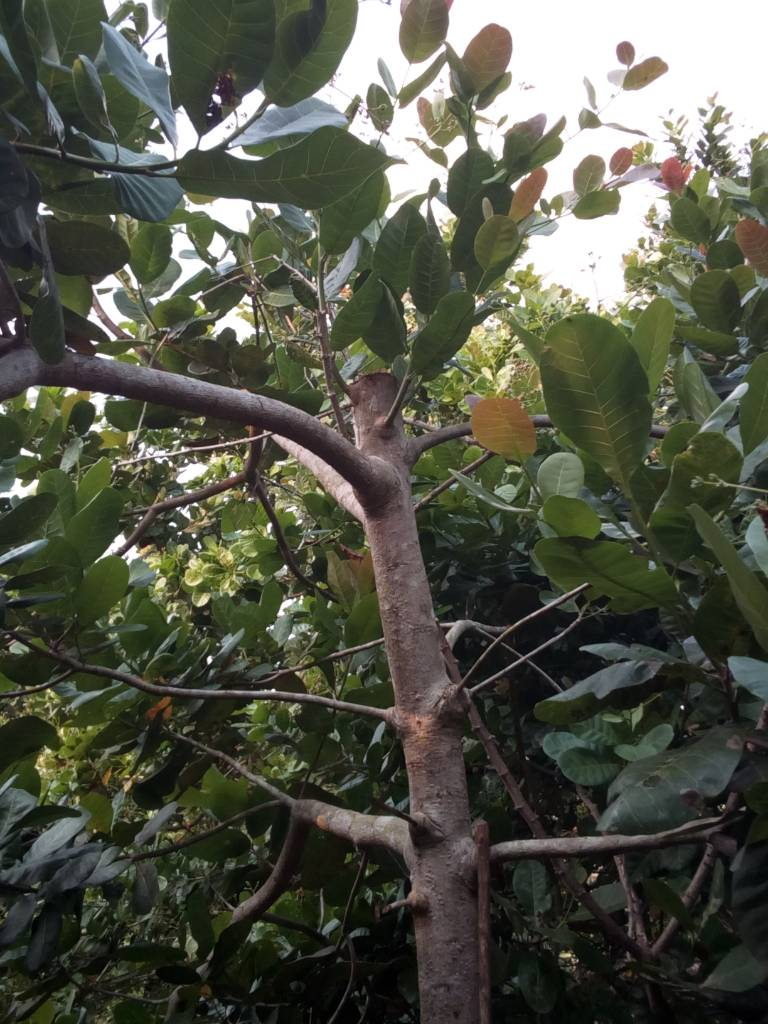Analepse trifasciata: (332, 361, 415, 416)
